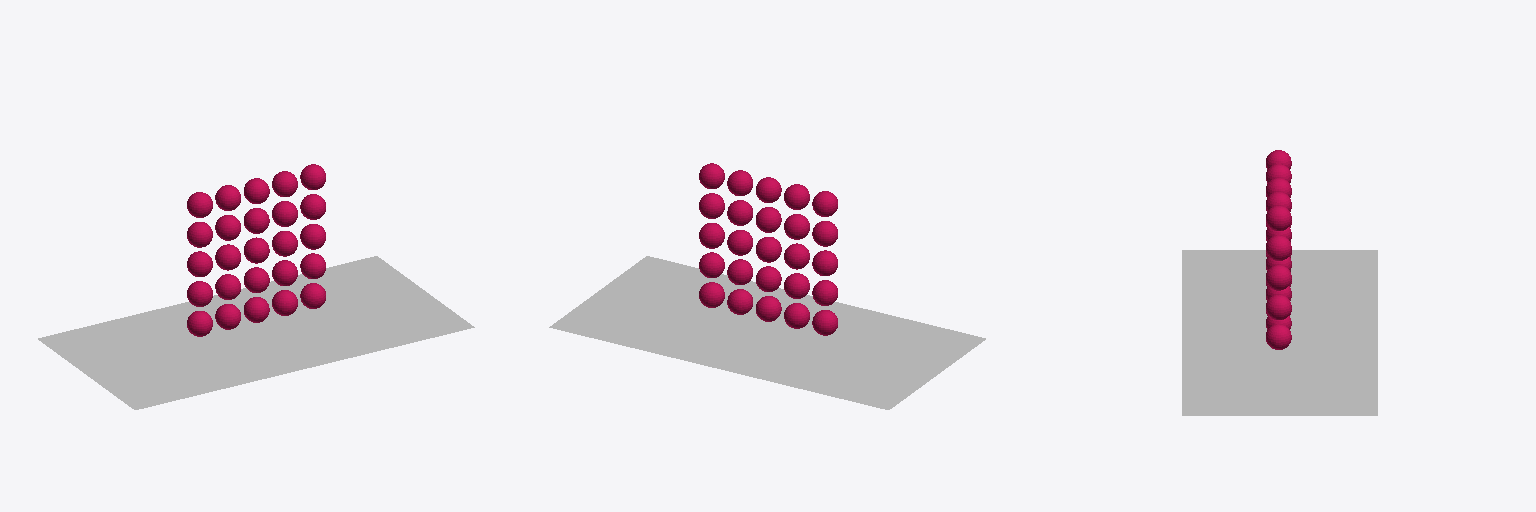
The model's file is pbr_scene.obj.
3 renders of one model, left to right at view 1: azimuth 30°, elevation 25°; view 2: azimuth 150°, elevation 25°; view 3: azimuth 270°, elevation 25°, orthographic.
Visible parts, largest first — view 1: Plane, Sphere.003, Sphere.018, Sphere.002, Sphere.007, Sphere.022, Sphere.017, Sphere.023, Sphere.008, Sphere.011, Sphere.014, Sphere.024 (+14 smaller); view 2: Plane, Sphere.001, Sphere.004, Sphere.014, Sphere.016, Sphere.019, Sphere.008, Sphere.021, Sphere.023, Sphere.003, Sphere.006, Sphere.018 (+14 smaller); view 3: Plane, Sphere.004, Sphere.019, Sphere.009, Sphere.024, Sphere.014.
Boxes of the visible parts, x1=… form: Plane: x1=38, y1=256, x2=474, y2=409; Sphere.003: x1=272, y1=290, x2=297, y2=315; Sphere.018: x1=272, y1=201, x2=297, y2=226; Sphere.002: x1=187, y1=311, x2=212, y2=336; Sphere.007: x1=187, y1=281, x2=212, y2=306; Sphere.022: x1=187, y1=192, x2=212, y2=217; Sphere.017: x1=187, y1=222, x2=212, y2=247; Sphere.023: x1=272, y1=171, x2=297, y2=196; Sphere.008: x1=272, y1=260, x2=297, y2=285; Sphere.011: x1=215, y1=244, x2=240, y2=270; Sphere.014: x1=300, y1=224, x2=325, y2=249; Sphere.024: x1=300, y1=164, x2=325, y2=189; Plane: x1=549, y1=256, x2=985, y2=409; Sphere.001: x1=784, y1=303, x2=809, y2=328; Sphere.004: x1=699, y1=282, x2=724, y2=307; Sphere.014: x1=699, y1=223, x2=724, y2=248; Sphere.016: x1=784, y1=214, x2=809, y2=239; Sphere.019: x1=699, y1=193, x2=724, y2=218; Sphere.008: x1=727, y1=259, x2=752, y2=284; Sphere.021: x1=784, y1=184, x2=809, y2=209; Sphere.023: x1=727, y1=170, x2=752, y2=195; Sphere.003: x1=727, y1=289, x2=752, y2=314; Sphere.006: x1=784, y1=273, x2=809, y2=298; Sphere.018: x1=727, y1=200, x2=752, y2=225; Plane: x1=1182, y1=250, x2=1377, y2=415; Sphere.004: x1=1266, y1=324, x2=1291, y2=349; Sphere.019: x1=1266, y1=235, x2=1291, y2=260; Sphere.009: x1=1266, y1=294, x2=1291, y2=319; Sphere.024: x1=1266, y1=205, x2=1291, y2=230; Sphere.014: x1=1266, y1=265, x2=1291, y2=290.
Size of the model in its own units: 30 by 13 by 15.